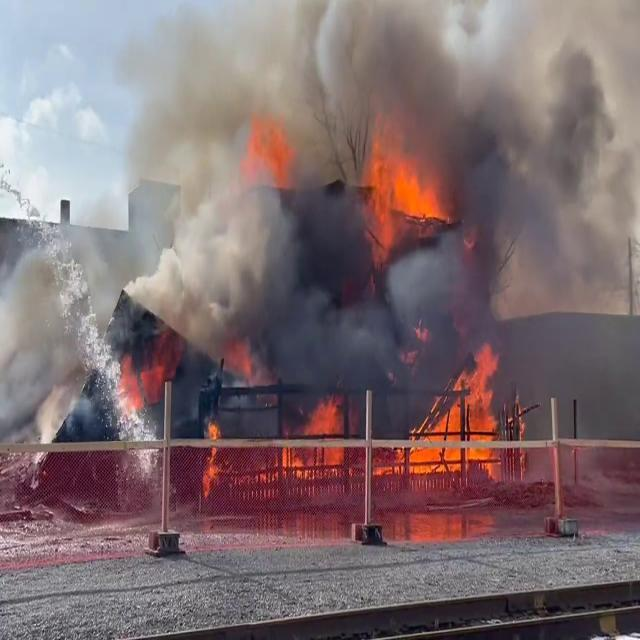Fire: (406, 341, 504, 482), (358, 122, 448, 251), (282, 392, 351, 484), (198, 413, 226, 496)
Smoke: (106, 1, 640, 372), (0, 180, 114, 454)
